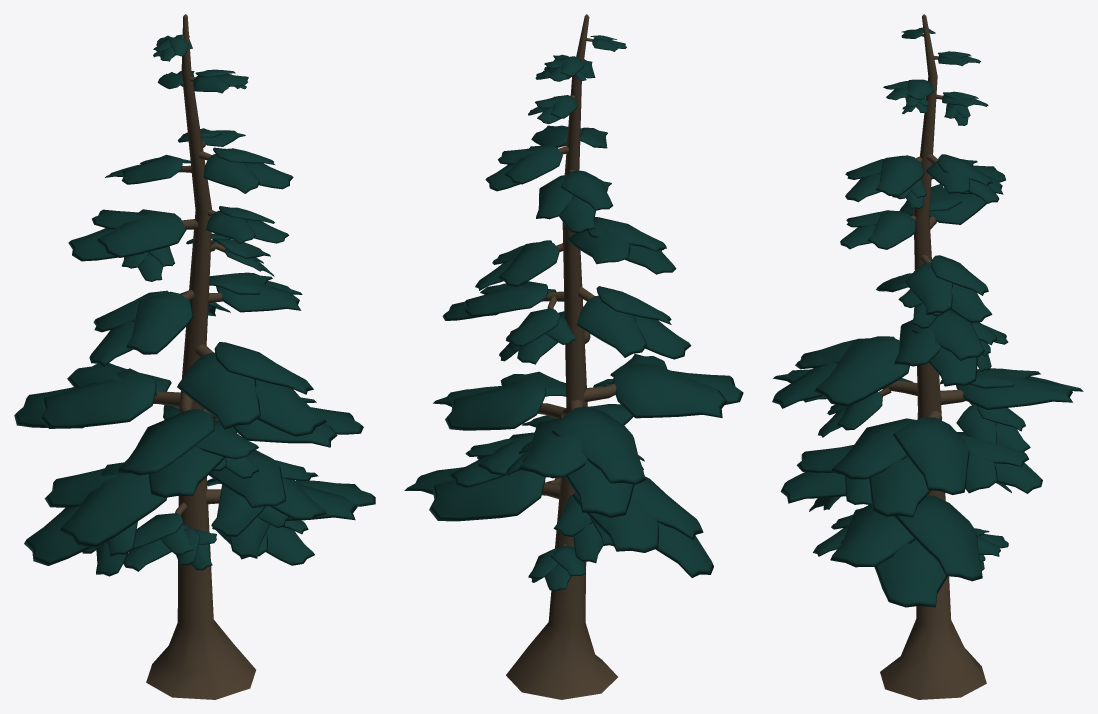
The model's file is Tree1.fbx.
3 views of the same model, side by side, from view 1: azimuth 30°, elevation 25°; view 2: azimuth 150°, elevation 25°; view 3: azimuth 270°, elevation 25° (orthographic). The views are drawn at different scales.
Visible parts, largest first — view 1: Tree3; view 2: Tree3; view 3: Tree3.
Part boxes in pixels (<box>): Tree3: <box>14,14,375,699</box>; Tree3: <box>404,14,743,699</box>; Tree3: <box>772,14,1083,699</box>.
Size of the model in its own units: 1982 by 3981 by 1719.
